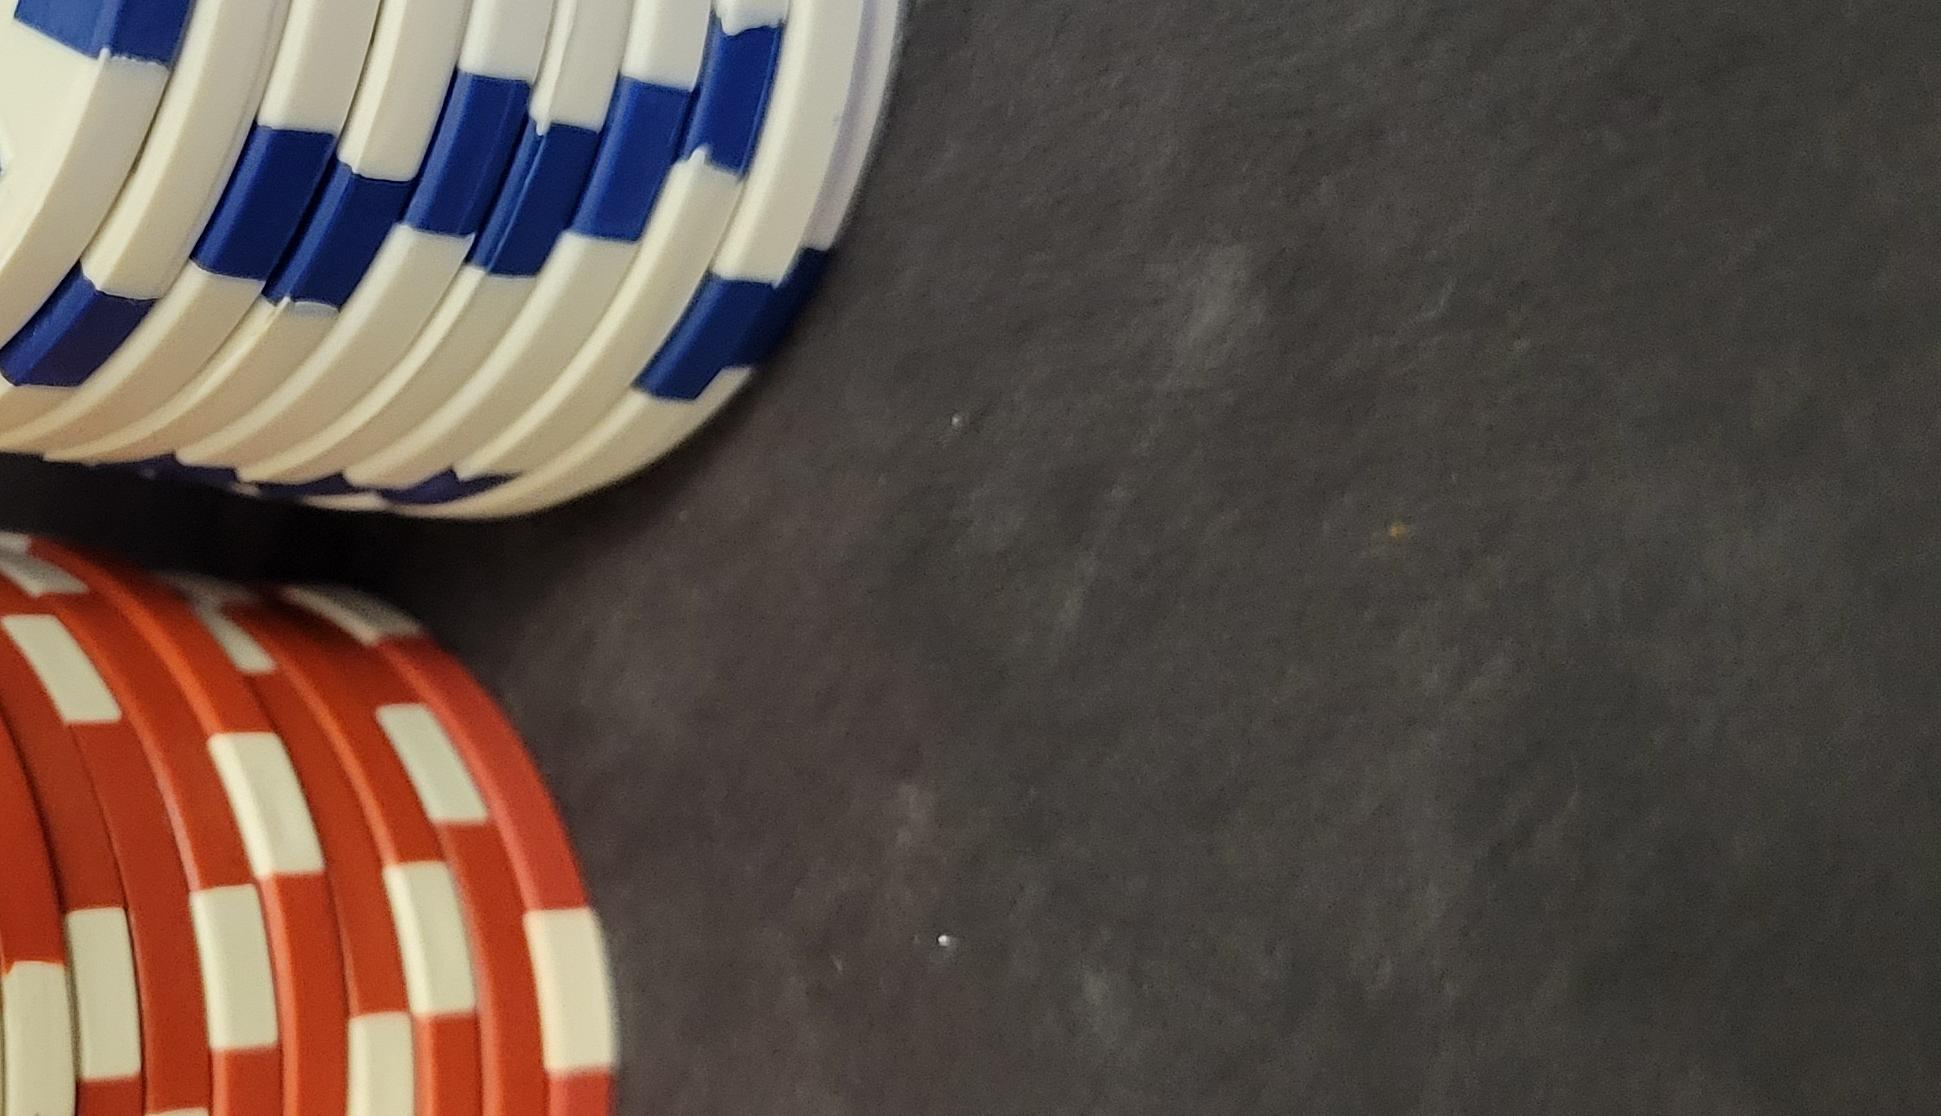Chip: (1, 332, 982, 1116)
